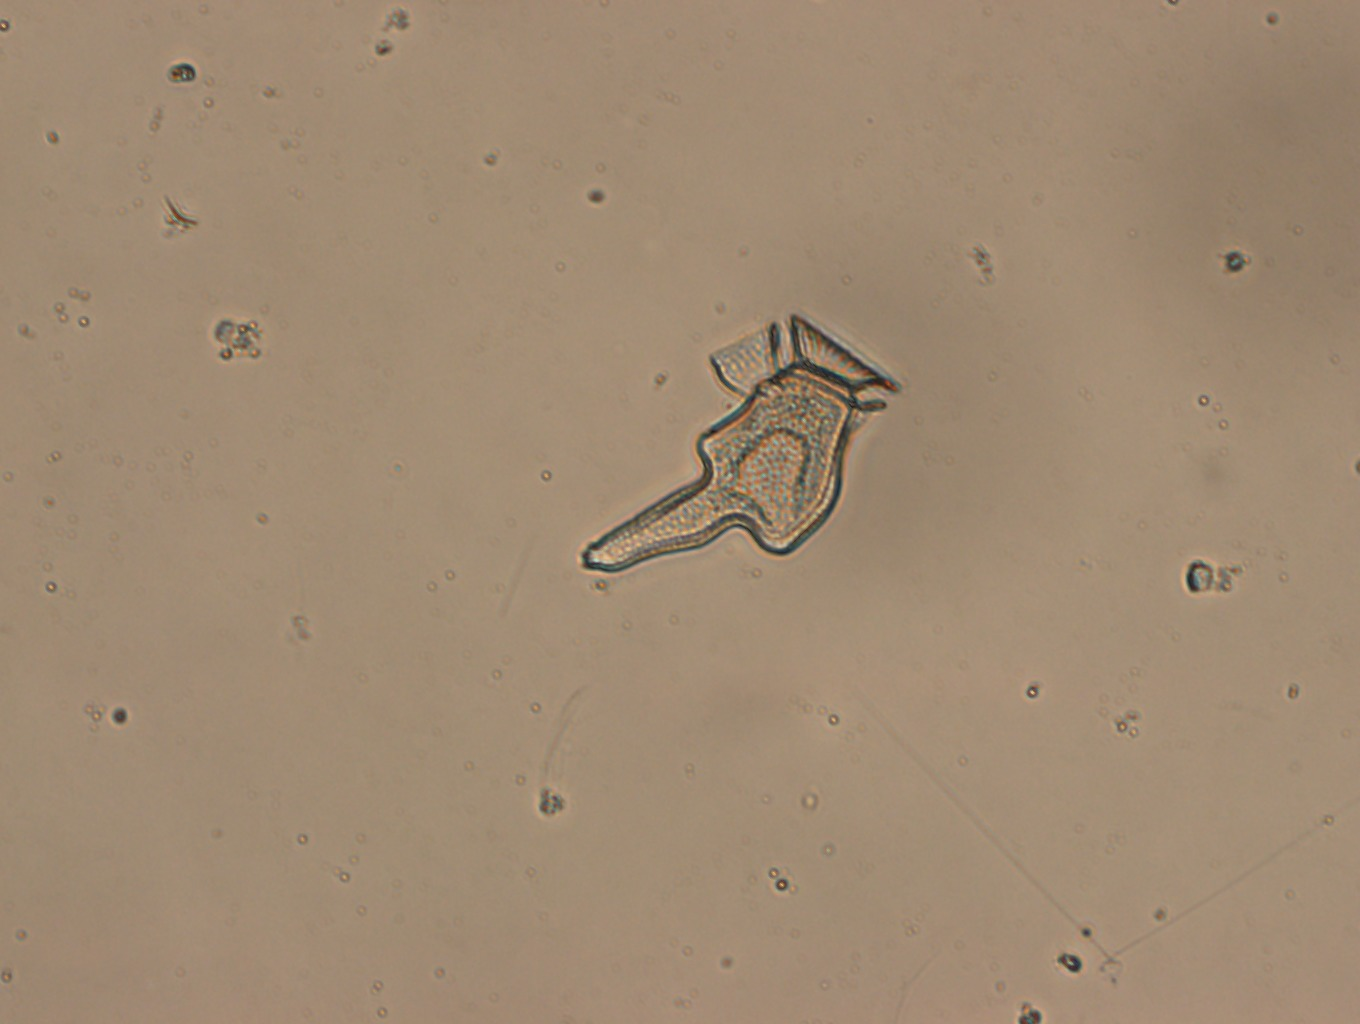dinophysis caudata: (569, 302, 906, 585)
